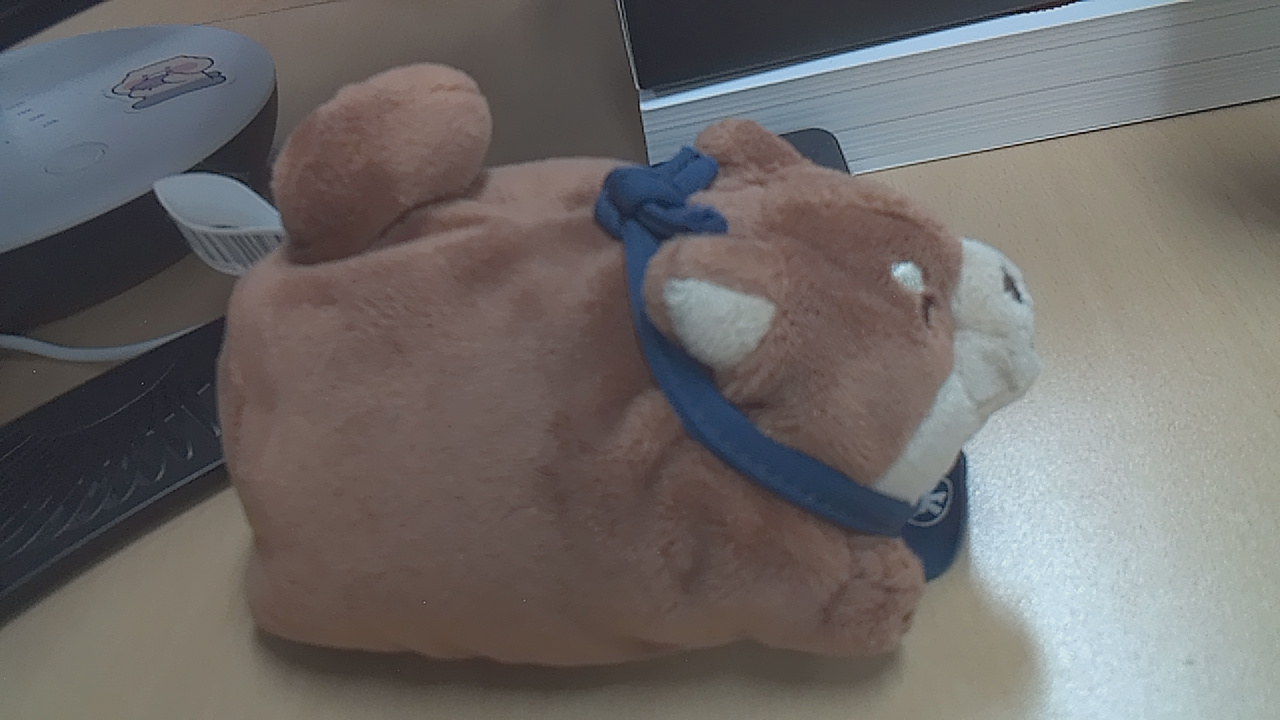cuteDog: (225, 81, 1052, 698)
